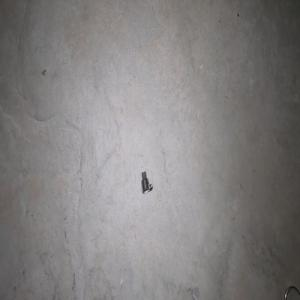MetalPart: (141, 170, 152, 194)
